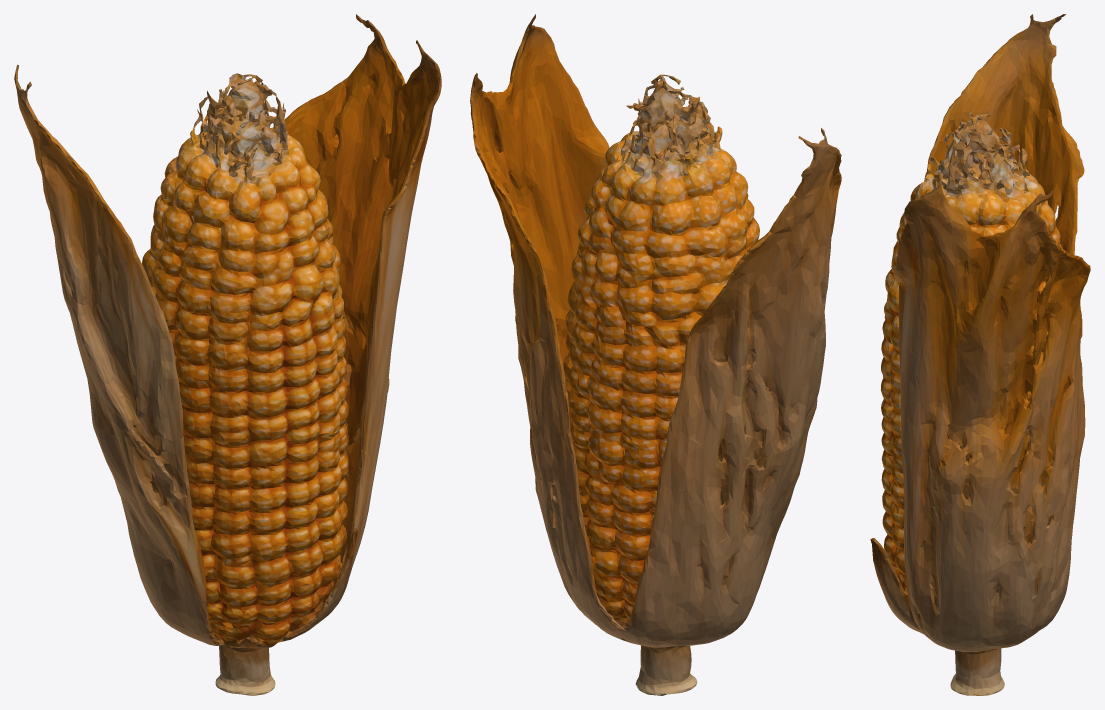
File: corn-cob.obj
3 renders of one model, left to right at view 1: azimuth 30°, elevation 25°; view 2: azimuth 150°, elevation 25°; view 3: azimuth 270°, elevation 25°, orthographic. The views are drawn at different scales.
Visible parts, largest first — view 1: material; view 2: material; view 3: material.
Part boxes in pixels (<box>): material: <box>14,14,441,695</box>; material: <box>470,14,841,695</box>; material: <box>870,14,1090,695</box>.
Size of the model in its own units: 0.6154 by 1.02 by 0.3461.
1 material, 1 textured.
